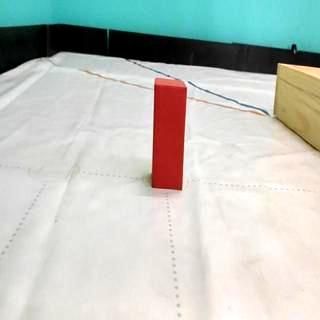redbox: (151, 77, 187, 190)
